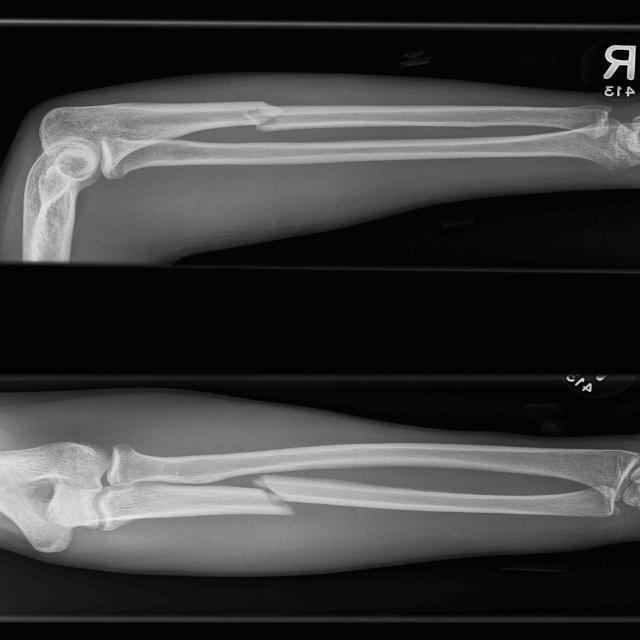bone: (238, 462, 324, 531), (228, 90, 292, 144)
